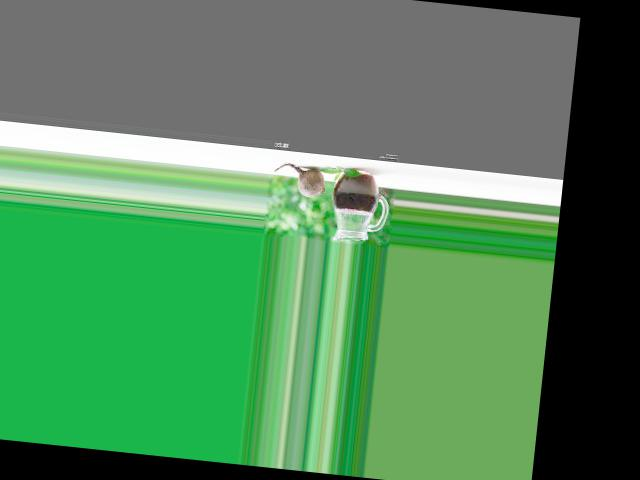beet: (273, 161, 327, 198)
